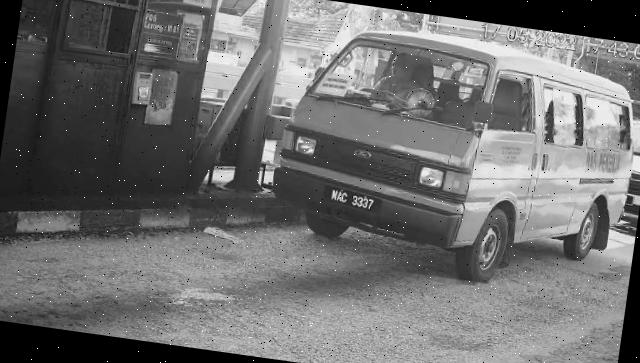License_Plate: (322, 182, 387, 219)
van: (264, 15, 640, 300)
